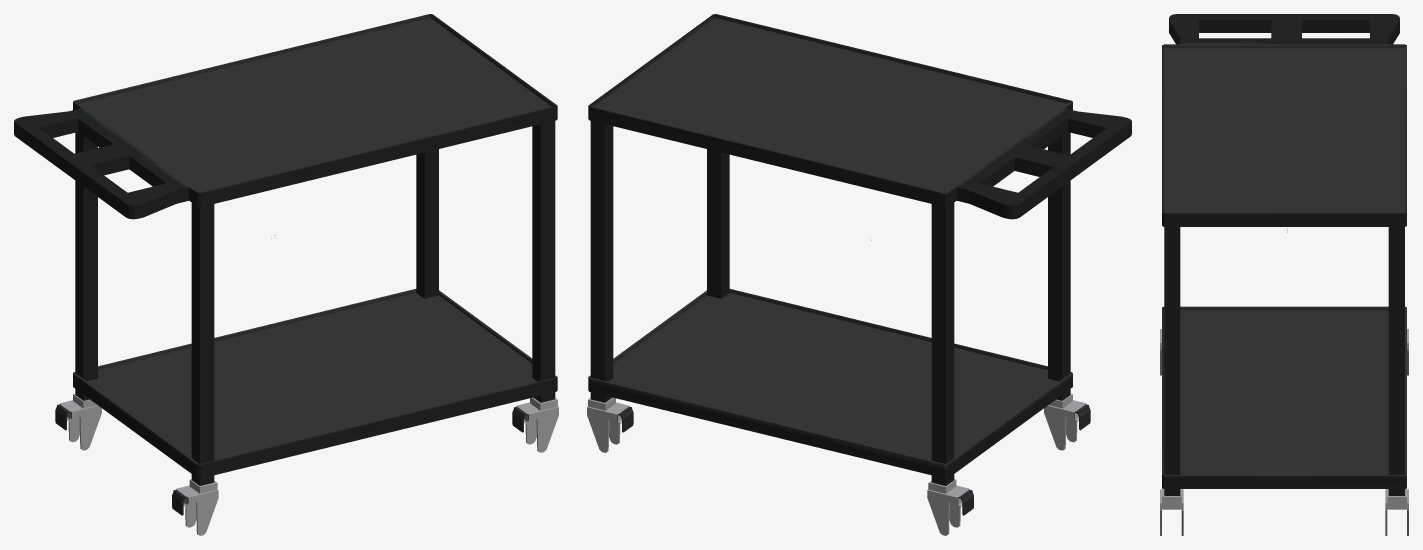
The model's file is ProjectorCart.fbx.
3 views of the same model, side by side, from view 1: azimuth 30°, elevation 25°; view 2: azimuth 150°, elevation 25°; view 3: azimuth 270°, elevation 25° (orthographic). The views are drawn at different scales.
Parts seen in each view (by area): view 1: CartBase, WheelJoint.004, WheelJoint.002, WheelJoint.001; view 2: CartBase, WheelJoint.001, WheelJoint.003, WheelJoint.004; view 3: CartBase, WheelJoint.002, WheelJoint.003.
Boxes of the visible parts, x1=… form: CartBase: x1=14, y1=14, x2=557, y2=485; WheelJoint.004: x1=172, y1=479, x2=218, y2=535; WheelJoint.002: x1=512, y1=397, x2=558, y2=452; WheelJoint.001: x1=55, y1=394, x2=101, y2=450; CartBase: x1=588, y1=14, x2=1131, y2=485; WheelJoint.001: x1=927, y1=479, x2=973, y2=535; WheelJoint.003: x1=587, y1=397, x2=633, y2=452; WheelJoint.004: x1=1044, y1=394, x2=1090, y2=450; CartBase: x1=1162, y1=14, x2=1406, y2=495; WheelJoint.002: x1=1160, y1=488, x2=1183, y2=535; WheelJoint.003: x1=1385, y1=488, x2=1408, y2=535.
Bounding box in the file's own units: 3305 × 2538 × 1737.
